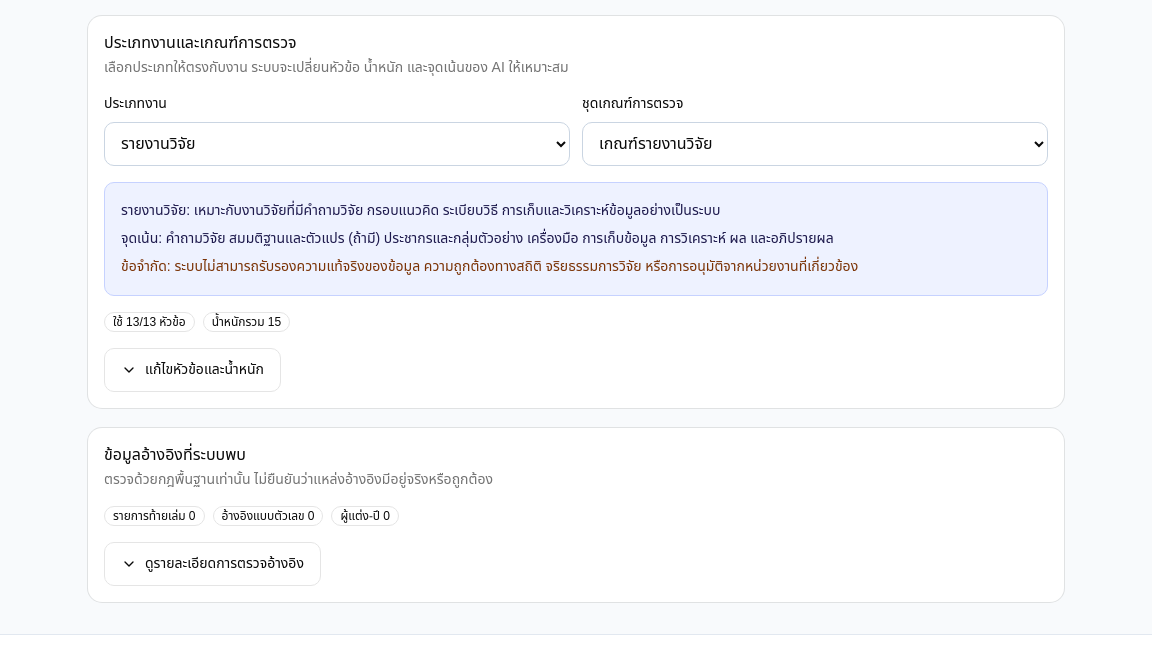
App › replaces an unknown saved template and its stale rubric with the document-type default
This screenshot has width=1152, height=654.
(page scrolled)
Expected: the dropdown labelled "ประเภทงาน" shows "รายงานวิจัย", left=104, top=122, right=570, bottom=166
Expected: the dropdown labelled "ชุดเกณฑ์การตรวจ" shows "เกณฑ์รายงานวิจัย", left=582, top=122, right=1048, bottom=166
Click the button "แก้ไขหัวข้อและน้ำหนัก" at (192, 370), box left=104, top=348, right=281, bottom=392
(page scrolled)
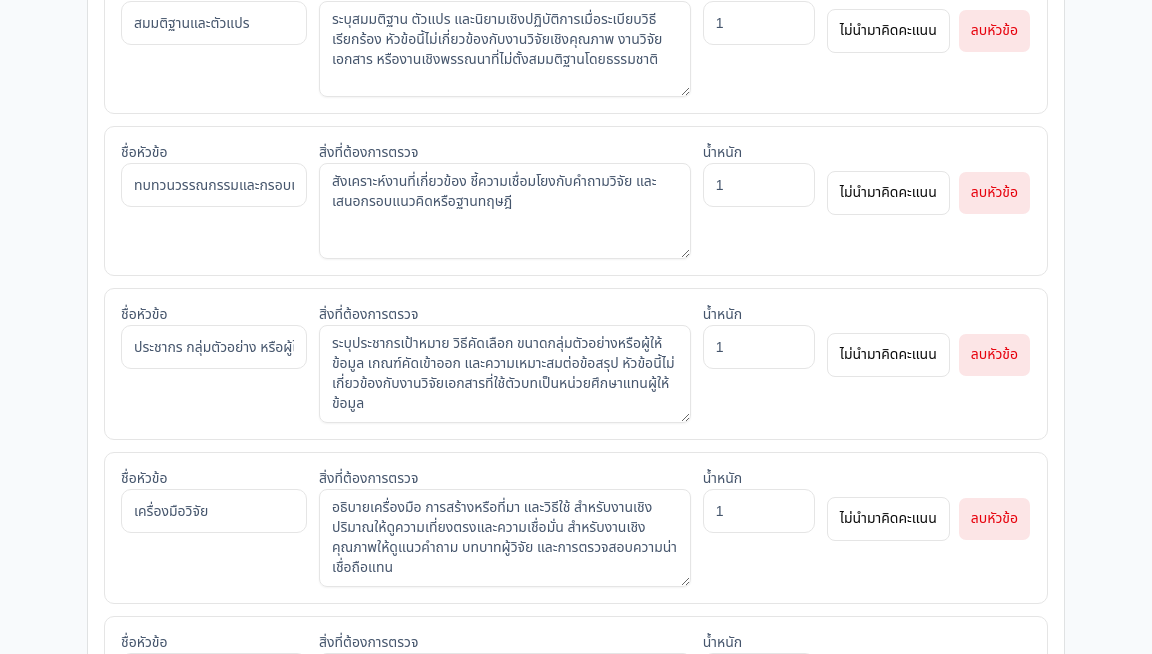
Expected: the field named "ชื่อหัวข้อ ประชากร กลุ่มตัวอย่าง หรือผู้ให้ข้อมูล" is shown, left=121, top=325, right=307, bottom=369
